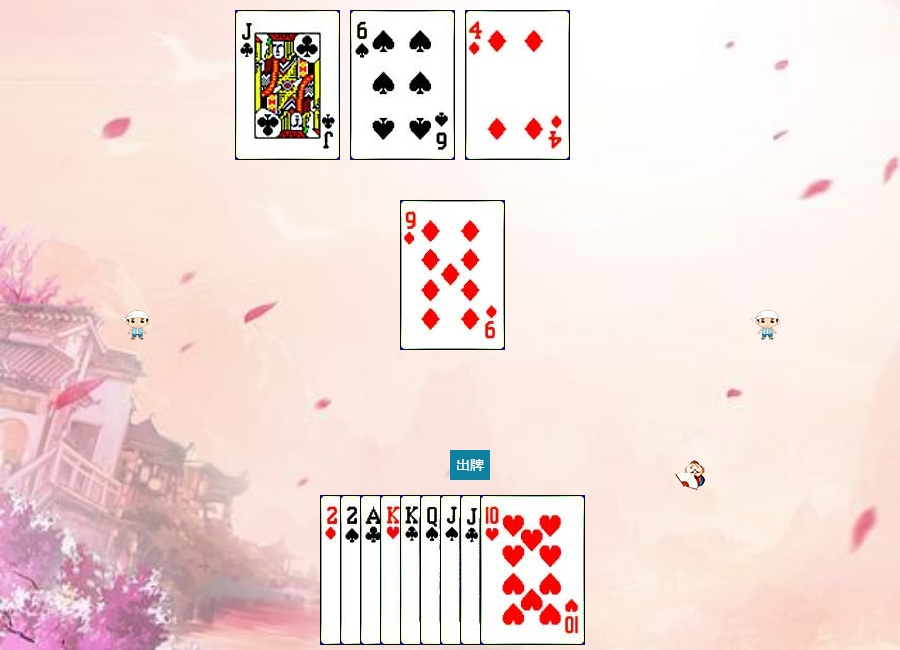10~3: (480, 495, 585, 645)
11~2: (235, 10, 340, 160), (460, 495, 565, 645)
11~4: (440, 495, 545, 645)
12~4: (420, 495, 525, 645)
13~2: (400, 495, 505, 645)
13~3: (380, 495, 485, 645)
14~2: (360, 495, 465, 645)
15~1: (320, 495, 425, 645)
15~4: (340, 495, 445, 645)
4~1: (465, 10, 570, 160)
6~4: (350, 10, 455, 160)
9~1: (400, 200, 505, 350)
